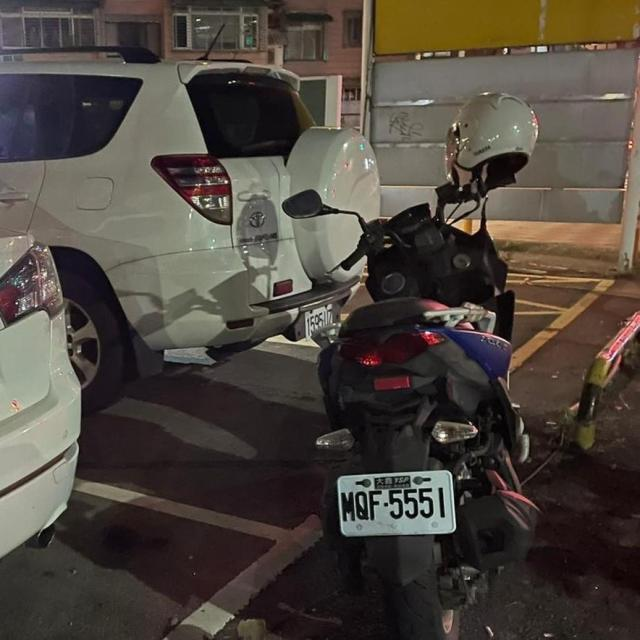W: (332, 463, 460, 540), (296, 300, 344, 339)
